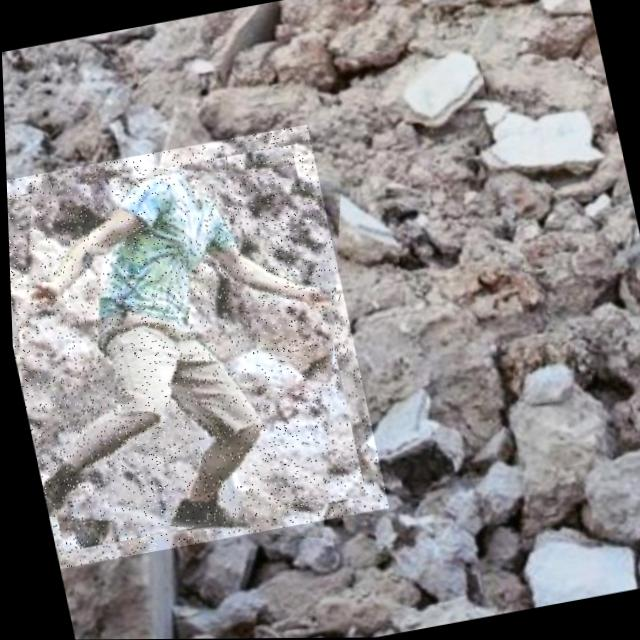Person in Rubble: (4, 124, 387, 568)
